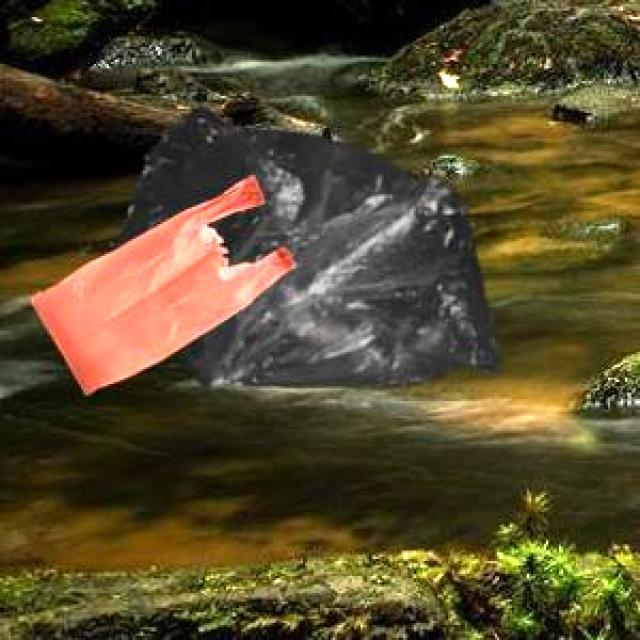Plastic_Bag: (114, 106, 496, 386), (27, 174, 294, 392)
